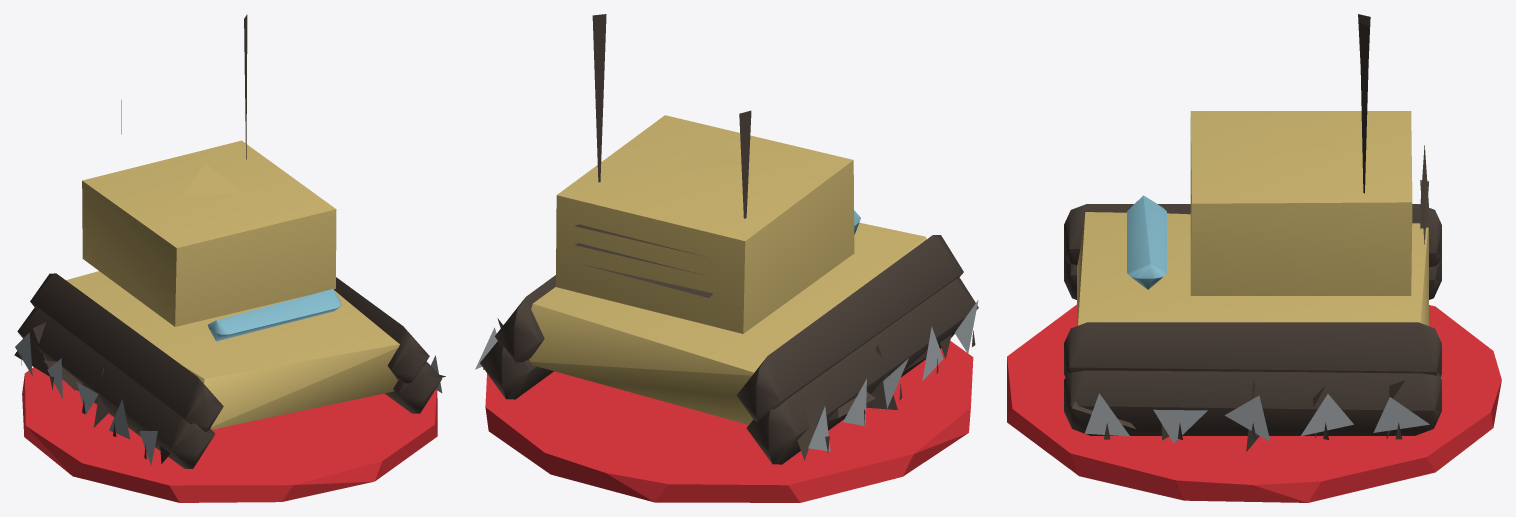
Rendered from israel_headquarters_lod1.glb.
3 renders of one model, left to right at view 1: azimuth 30°, elevation 25°; view 2: azimuth 150°, elevation 25°; view 3: azimuth 270°, elevation 25°, orthographic. The views are drawn at different scales.
Parts seen in each view (by area): view 1: body_hull, base_pedestal; view 2: body_hull, base_pedestal; view 3: body_hull, base_pedestal.
Part boxes in pixels (x1,y1,x2,y2): body_hull: [14, 14, 445, 468]; base_pedestal: [22, 367, 437, 502]; body_hull: [475, 14, 978, 464]; base_pedestal: [485, 341, 973, 502]; body_hull: [1064, 14, 1441, 451]; base_pedestal: [1007, 304, 1501, 502].
Size of the model in its own units: 0.7751 by 0.7101 by 0.7751.
